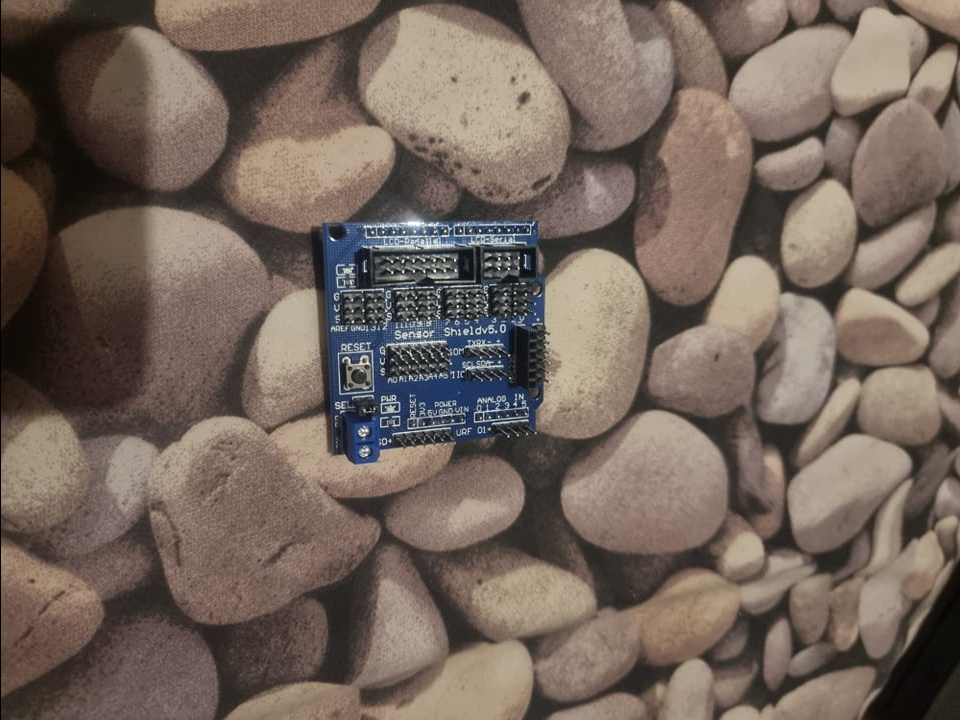5V EXPANSION: (320, 220, 545, 467)
